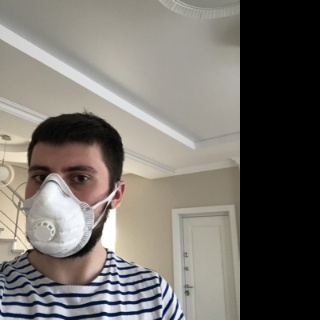with_mask: (23, 158, 108, 259)
